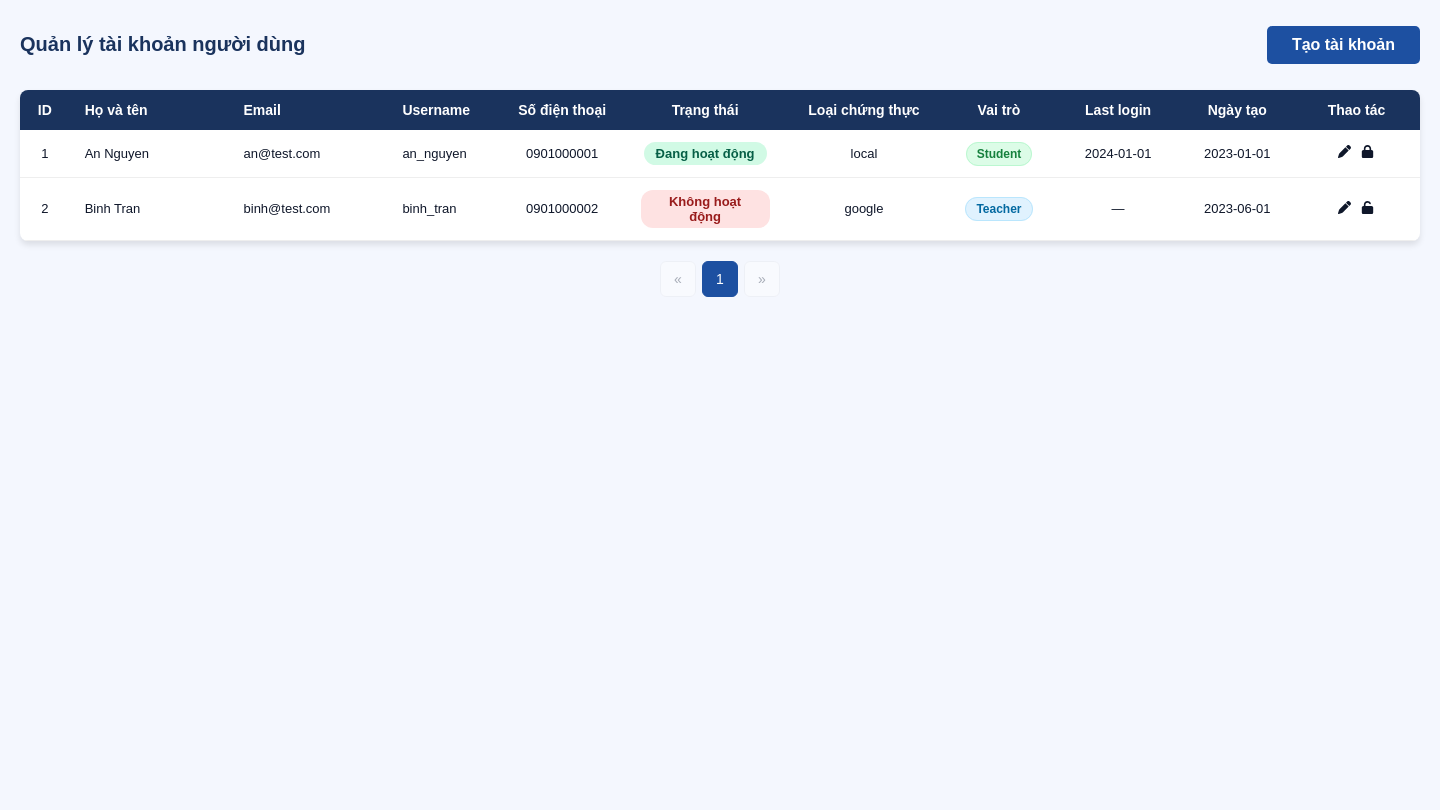
3. Edit user › ACC-008 submit thành công: gọi updateUser, đóng modal, hiện toast
The image size is (1440, 810).
Check: the text "an_nguyen" is shown, box top-left (387, 130), bottom-right (499, 177)
Click the 1st icon with class "icon-edit" at coordinates (1345, 154), box top-left (1338, 146), bottom-right (1351, 161)
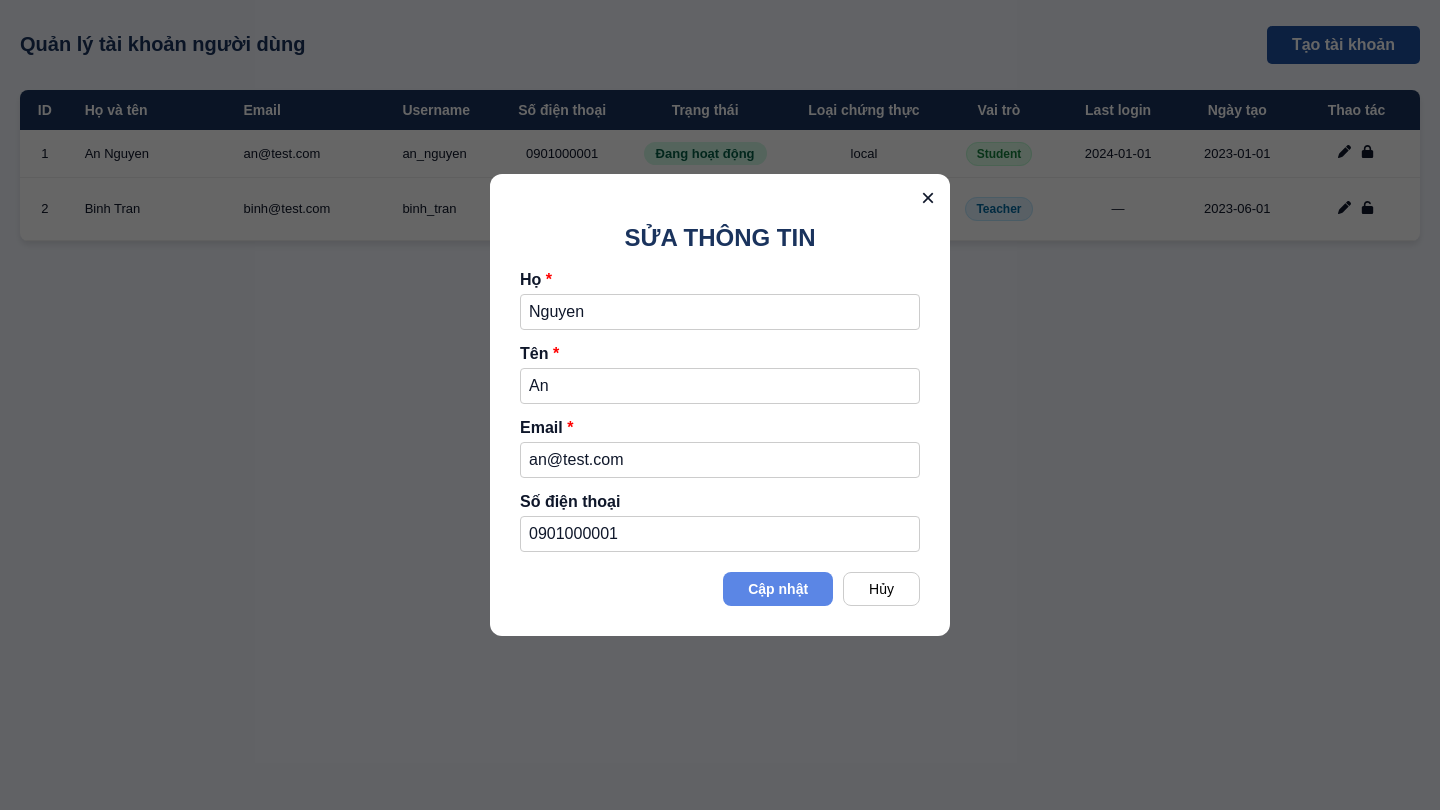
Replace the text in the 4th field showing "0901000001" with "0909999999" at coordinates (720, 534), box top-left (520, 516), bottom-right (920, 552)
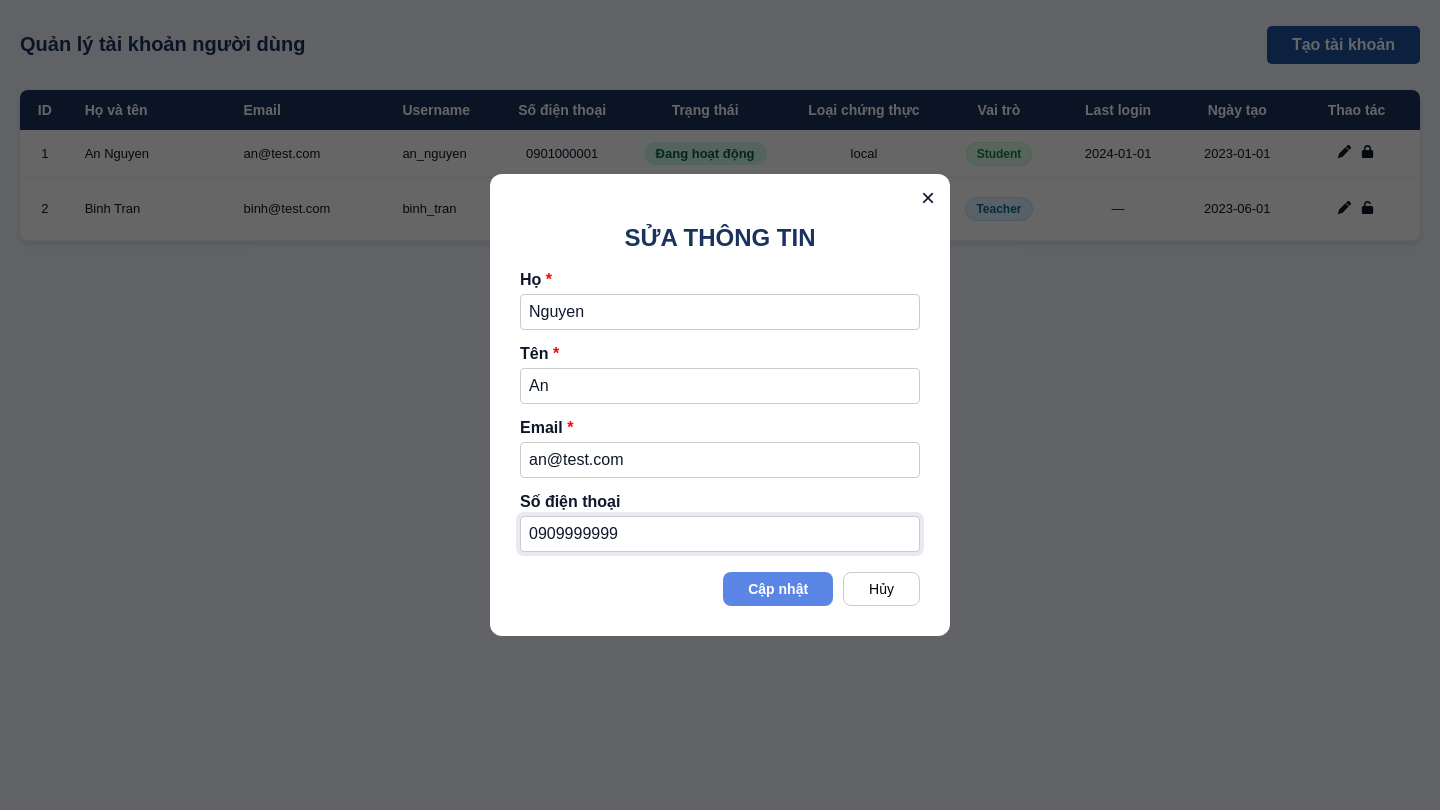
Click the button "Cập nhật" at coordinates (778, 589), box top-left (723, 572), bottom-right (833, 606)
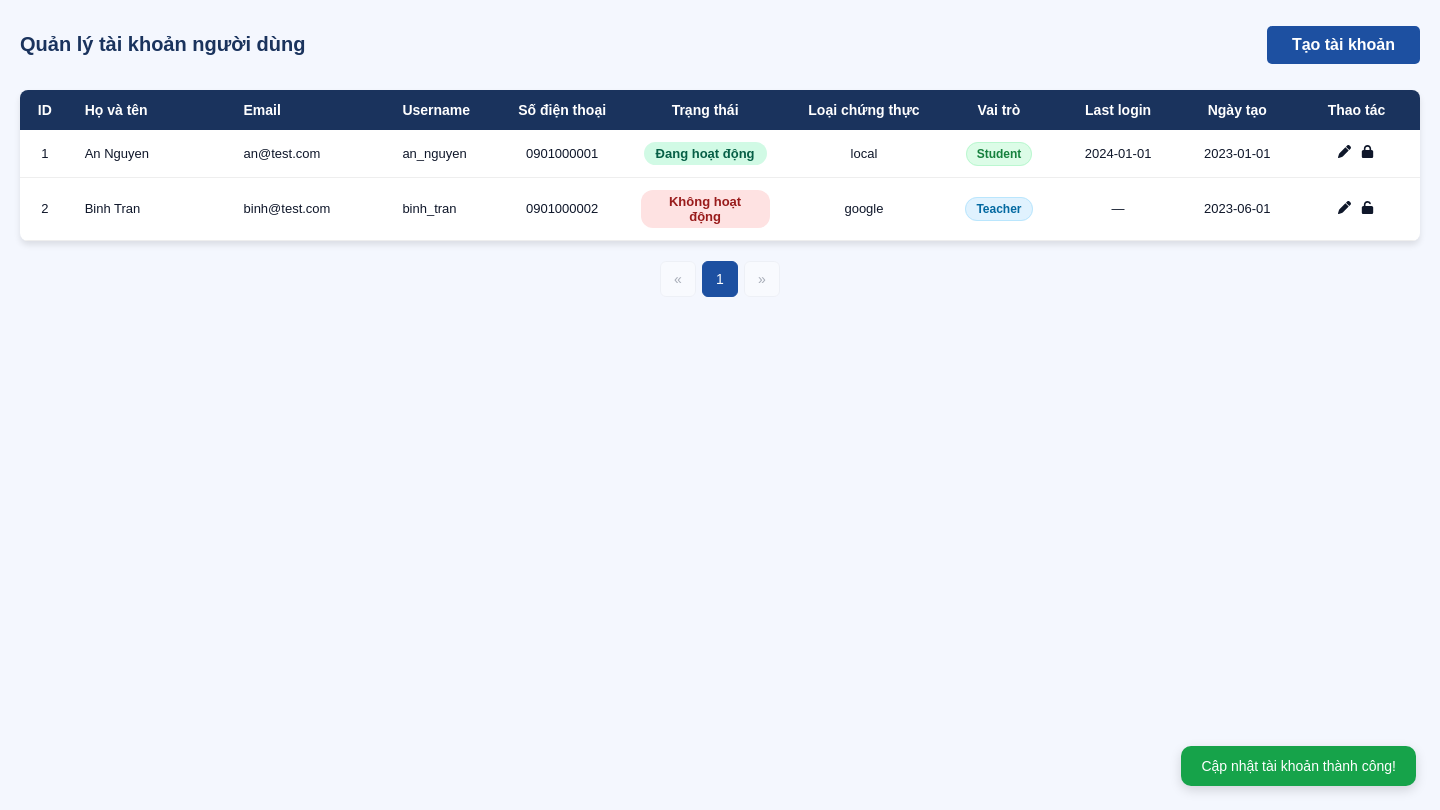
Check: the text "Cập nhật tài khoản thành công!" is shown, box top-left (1181, 746), bottom-right (1416, 786)
Check: the heading "SỬA THÔNG TIN" is gone
